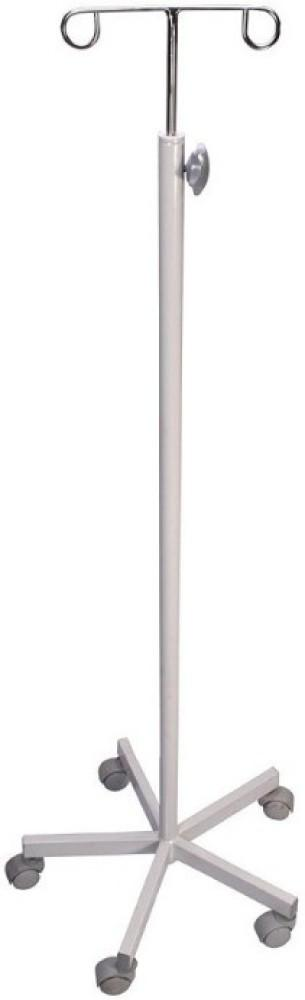Saline Stand: (4, 0, 297, 996)
